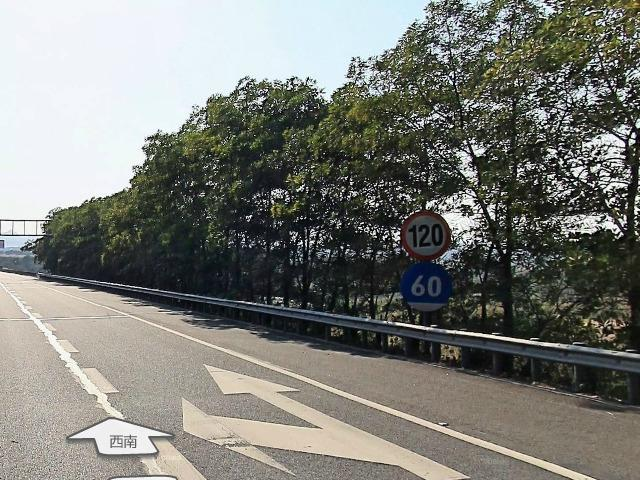limit120: (400, 210, 450, 260)
